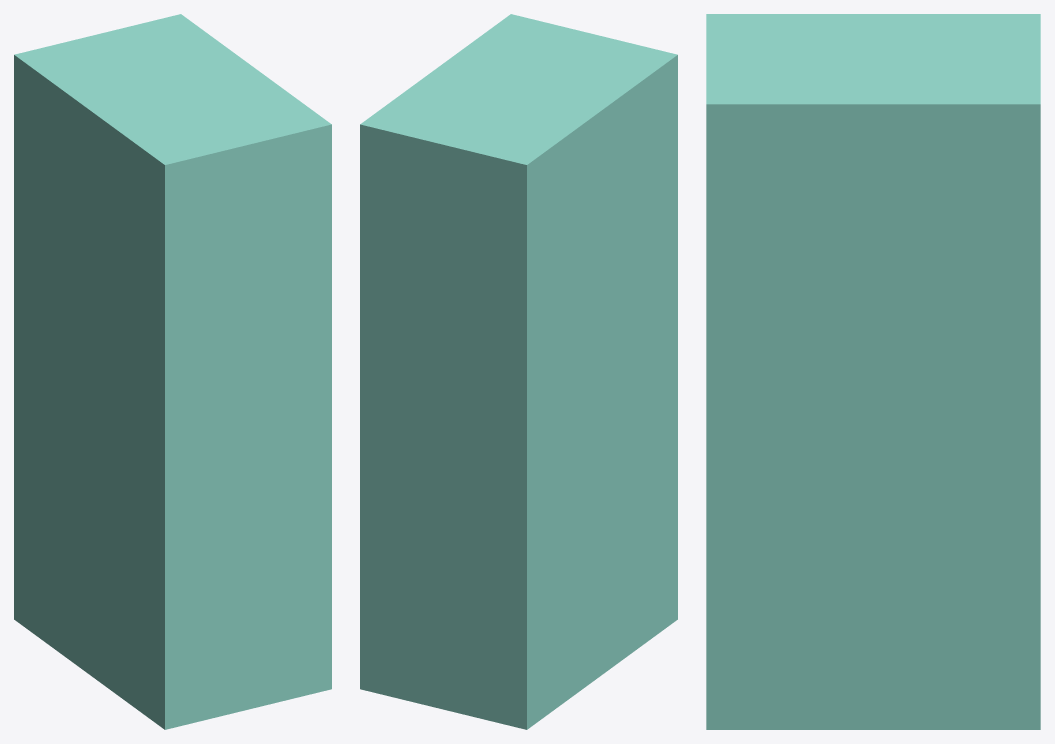
File: hydrant.DAE
3 views of the same model, side by side, from view 1: azimuth 30°, elevation 25°; view 2: azimuth 150°, elevation 25°; view 3: azimuth 270°, elevation 25° (orthographic). The views are drawn at different scales.
Visible parts, largest first — view 1: bounds; view 2: bounds; view 3: bounds.
Part boxes in pixels (x1,y1,x2,y2): bounds: (14,14,331,729); bounds: (360,14,677,729); bounds: (706,14,1040,729).
Bounding box in the file's own units: 36.56 × 57.25 × 119.
